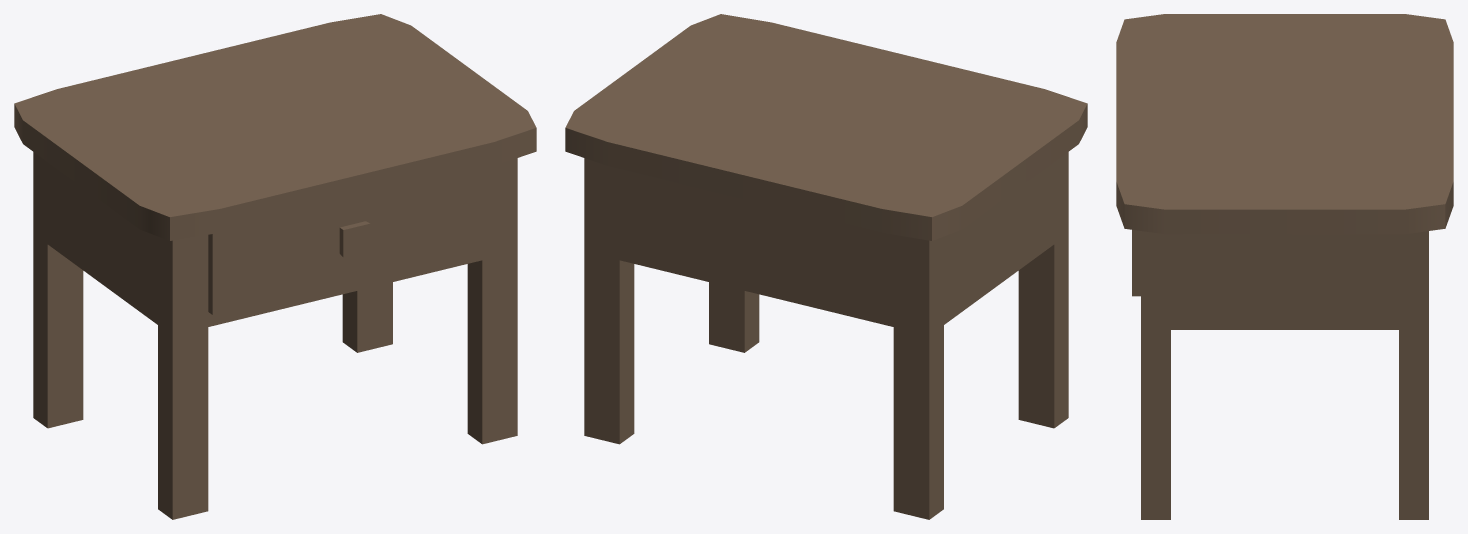
The model's file is side table_export (1).fbx.
The picture shows the model from 3 angles, left to right: view 1: azimuth 30°, elevation 25°; view 2: azimuth 150°, elevation 25°; view 3: azimuth 270°, elevation 25°; orthographic projection. The views are drawn at different scales.
Visible parts, largest first — view 1: table_side, side_table_shelf; view 2: table_side; view 3: table_side, side_table_shelf.
Boxes of the visible parts, <box> form: table_side: <box>14,14,536,519</box>; side_table_shelf: <box>208,168,486,314</box>; table_side: <box>565,14,1087,519</box>; table_side: <box>1116,14,1453,519</box>; side_table_shelf: <box>1132,230,1140,296</box>.
Bounding box in the file's own units: 10.63 × 8.14 × 7.75.
